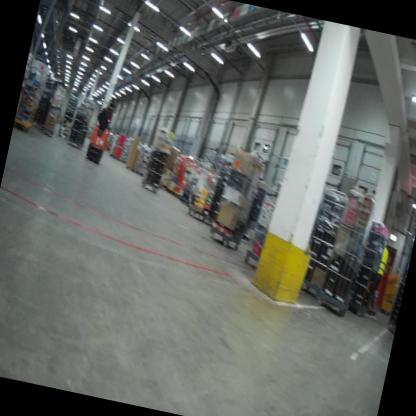pallet_truck: (79, 93, 119, 169)
